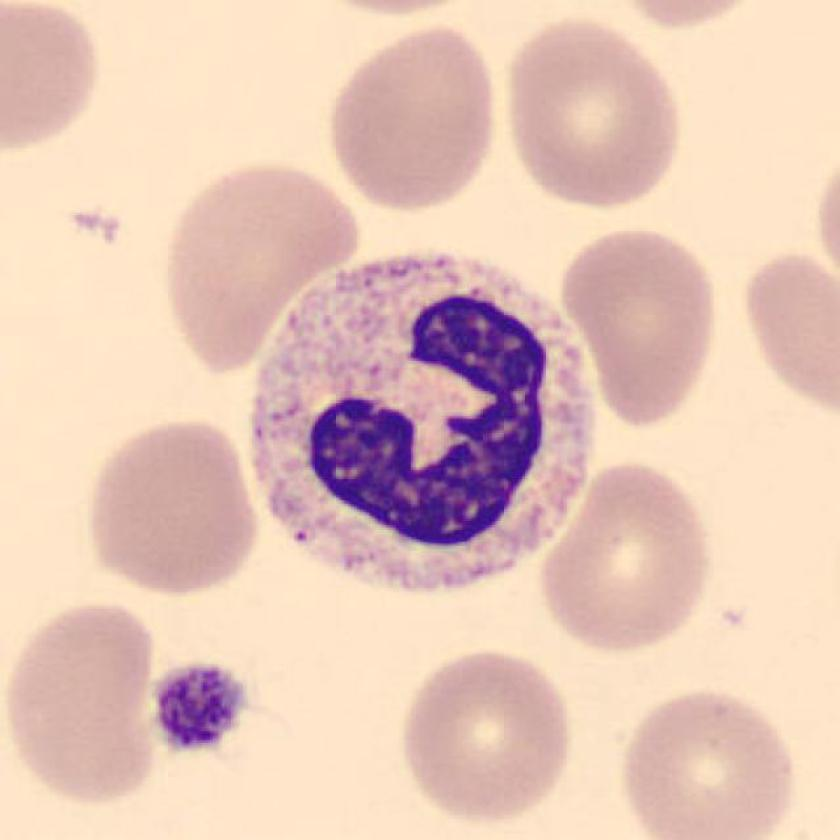neutrophil: (247, 252, 596, 593)
